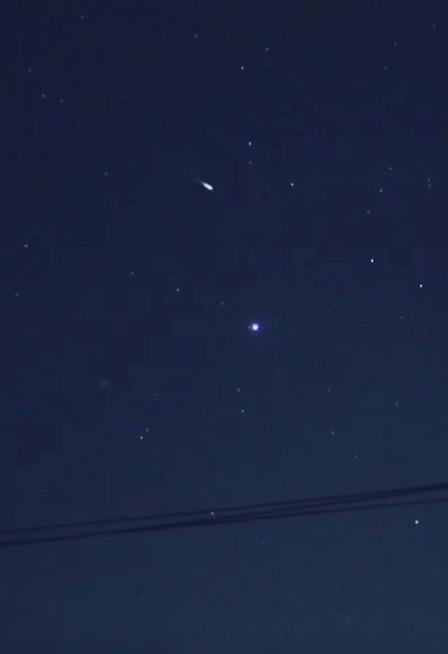meteorite: (182, 171, 225, 197)
